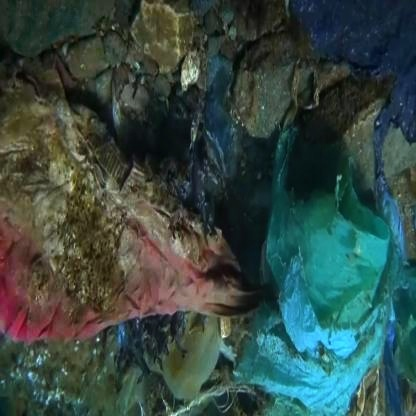plastic: (20, 147, 232, 356), (262, 192, 388, 373)
